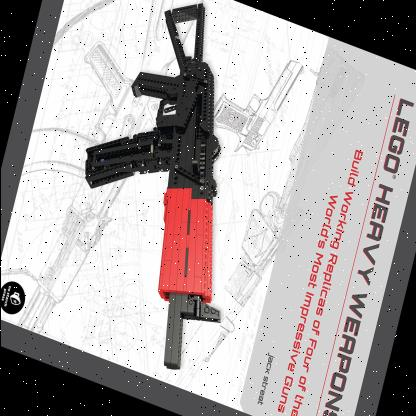rifle: (40, 0, 288, 382)
